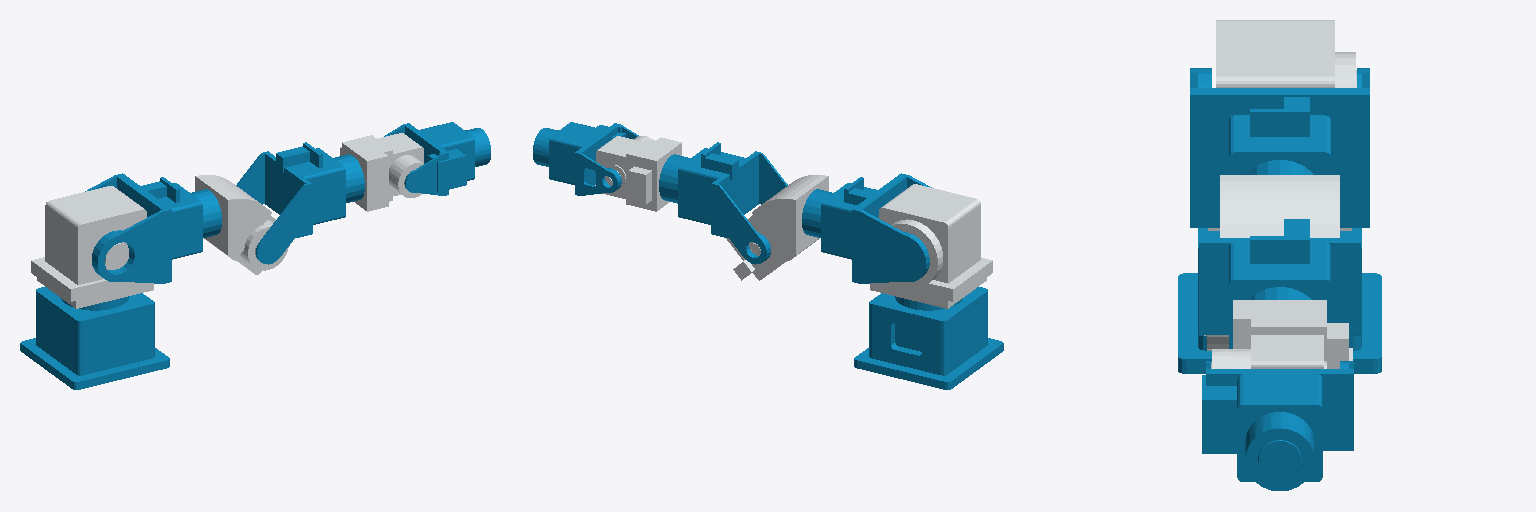
The robot description file, URDF, robot "blue_arm":
<?xml version="1.0" ?>
<!-- =================================================================================== -->
<!-- |    This document was autogenerated by xacro from [local-path]/work/src/robot_models/blue_arm_description/urdf/blue_arm_cam.xacro | -->
<!-- |    EDITING THIS FILE BY HAND IS NOT RECOMMENDED                                 | -->
<!-- =================================================================================== -->
<!-- This URDF was automatically created by SolidWorks to URDF Exporter! Originally created by [author] ([email redacted]) 
     Commit Version: 1.5.1-0-g916b5db  Build Version: 1.5.7152.31018
     For more information, please see http://wiki.ros.org/sw_urdf_exporter -->
<robot name="blue_arm">
    <material name="aluminum">
        <color rgba="0.5 0.5 0.5 1" />
    </material>
    <material name="plastic">
        <color rgba="0.1 0.1 0.1 1" />
    </material>
    <!-- camera body, with origin at bottom screw mount -->
    <joint name="camera_joint" type="fixed">
        <origin rpy="0 0 0" xyz="0 0 0" />
        <parent link="link_7" />
        <child link="camera_bottom_screw_frame" />
    </joint>
    <link name="camera_bottom_screw_frame" />
    <joint name="camera_link_joint" type="fixed">
        <origin rpy="0 0 0" xyz="0.01085 0.009 0.021" />
        <parent link="camera_bottom_screw_frame" />
        <child link="camera_link" />
    </joint>
    <link name="camera_link">
        <visual>
            <!-- the mesh origin is at front plate in between the two infrared camera axes -->
            <origin rpy="1.5707963267948966 0 1.5707963267948966" xyz="0.0038 -0.009 0" />
            <geometry>
                <mesh filename="file://[local-path]/work/src/camera_models/realsense2_description/meshes/d405.stl" scale="0.001 0.001 0.001" />
            </geometry>
            <material name="aluminum" />
        </visual>
        <collision>
            <origin rpy="0 0 0" xyz="-0.0078 -0.009 0" />
            <geometry>
                <box size="0.023 0.042 0.042" />
            </geometry>
        </collision>
        <inertial>
            <!-- The following are not reliable values, and should not be used for modeling -->
            <mass value="0.072" />
            <origin xyz="0 0 0" rpy="0 0 0" />
            <inertia ixx="0.003881243" ixy="0.0" ixz="0.0" iyy="0.000498940" iyz="0.0" izz="0.003879257" />
        </inertial>
    </link>
    <!-- camera depth joints and links -->
    <joint name="camera_depth_joint" type="fixed">
        <origin rpy="0 0 0" xyz="0 0 0" />
        <parent link="camera_link" />
        <child link="camera_depth_frame" />
    </joint>
    <link name="camera_depth_frame" />
    <joint name="camera_depth_optical_joint" type="fixed">
        <origin rpy="-1.5707963267948966 0 -1.5707963267948966" xyz="0 0 0" />
        <parent link="camera_depth_frame" />
        <child link="camera_depth_optical_frame" />
    </joint>
    <link name="camera_depth_optical_frame" />
    <!-- camera left IR joints and links -->
    <joint name="camera_infra1_joint" type="fixed">
        <origin rpy="0 0 0" xyz="0 0.0 0" />
        <parent link="camera_link" />
        <child link="camera_infra1_frame" />
    </joint>
    <link name="camera_infra1_frame" />
    <joint name="camera_infra1_optical_joint" type="fixed">
        <origin rpy="-1.5707963267948966 0 -1.5707963267948966" xyz="0 0 0" />
        <parent link="camera_infra1_frame" />
        <child link="camera_infra1_optical_frame" />
    </joint>
    <link name="camera_infra1_optical_frame" />
    <!-- camera right IR joints and links -->
    <joint name="camera_infra2_joint" type="fixed">
        <origin rpy="0 0 0" xyz="0 -0.018 0" />
        <parent link="camera_link" />
        <child link="camera_infra2_frame" />
    </joint>
    <link name="camera_infra2_frame" />
    <joint name="camera_infra2_optical_joint" type="fixed">
        <origin rpy="-1.5707963267948966 0 -1.5707963267948966" xyz="0 0 0" />
        <parent link="camera_infra2_frame" />
        <child link="camera_infra2_optical_frame" />
    </joint>
    <link name="camera_infra2_optical_frame" />
    <!-- camera color joints and links -->
    <joint name="camera_color_joint" type="fixed">
        <origin rpy="0 0 0" xyz="0 0.0 0" />
        <parent link="camera_link" />
        <child link="camera_color_frame" />
    </joint>
    <link name="camera_color_frame" />
    <joint name="camera_color_optical_joint" type="fixed">
        <origin rpy="-1.5707963267948966 0 -1.5707963267948966" xyz="0 0 0" />
        <parent link="camera_color_frame" />
        <child link="camera_color_optical_frame" />
    </joint>
    <link name="camera_color_optical_frame" />
    <physics type="ode">
        <max_step_size>0.001</max_step_size>
        <real_time_factor>0.1</real_time_factor>
        <real_time_update_rate>1000</real_time_update_rate>
        <gravity>0 0 -9.8</gravity>
    </physics>
    <gazebo>
        <plugin filename="libgazebo_ros_control.so" name="gazebo_ros_control">
            <robotNamespace>/</robotNamespace>
            <robotSimType>gazebo_ros_control/DefaultRobotHWSim</robotSimType>
            <legacyModeNS>true</legacyModeNS>
        </plugin>
    </gazebo>
    <gazebo reference="base_link">
        <mu1>0.2</mu1>
        <mu2>0.2</mu2>
        <material>Gazebo/Blue</material>
        <selfCollide>false</selfCollide>
    </gazebo>
    <gazebo reference="link_1">
        <mu1>0.2</mu1>
        <mu2>0.2</mu2>
        <material>Gazebo/Gray</material>
        <selfCollide>false</selfCollide>
    </gazebo>
    <gazebo reference="link_2">
        <mu1>0.2</mu1>
        <mu2>0.2</mu2>
        <material>Gazebo/Blue</material>
        <selfCollide>false</selfCollide>
    </gazebo>
    <gazebo reference="link_3">
        <mu1>0.2</mu1>
        <mu2>0.2</mu2>
        <material>Gazebo/Gray</material>
        <selfCollide>false</selfCollide>
    </gazebo>
    <gazebo reference="link_4">
        <mu1>0.2</mu1>
        <mu2>0.2</mu2>
        <material>Gazebo/Blue</material>
        <selfCollide>false</selfCollide>
    </gazebo>
    <gazebo reference="link_5">
        <mu1>0.2</mu1>
        <mu2>0.2</mu2>
        <material>Gazebo/Gray</material>
        <selfCollide>false</selfCollide>
    </gazebo>
    <gazebo reference="link_6">
        <mu1>0.2</mu1>
        <mu2>0.2</mu2>
        <material>Gazebo/Blue</material>
        <selfCollide>false</selfCollide>
    </gazebo>
    <gazebo reference="joint_1">
        <implicitSpringDamper>True</implicitSpringDamper>
    </gazebo>
    <gazebo reference="joint_2">
        <implicitSpringDamper>True</implicitSpringDamper>
    </gazebo>
    <gazebo reference="joint_3">
        <implicitSpringDamper>True</implicitSpringDamper>
    </gazebo>
    <gazebo reference="joint_4">
        <implicitSpringDamper>True</implicitSpringDamper>
    </gazebo>
    <gazebo reference="joint_5">
        <implicitSpringDamper>True</implicitSpringDamper>
    </gazebo>
    <gazebo reference="joint_6">
        <implicitSpringDamper>True</implicitSpringDamper>
    </gazebo>
    <gazebo reference="joint_7">
        <implicitSpringDamper>True</implicitSpringDamper>
    </gazebo>
    <!-- parses the transmission tags and loads the appropriate hardware interfaces and controller manager -->
    <!-- <robot xmlns:xacro="http://www.ros.org/wiki/xacro">

  <xacro:macro name="table_arm_transmission" params="side"> -->
    <!-- all joint transmission -->
    <transmission name="trans_joint_1">
        <type>transmission_interface/SimpleTransmission</type>
        <joint name="joint_1">
            <hardwareInterface>hardware_interface/VelocityJointInterface</hardwareInterface>
        </joint>
        <actuator name="joint_1_motor">
            <hardwareInterface>hardware_interface/VelocityJointInterface</hardwareInterface>
            <mechanicalReduction>1</mechanicalReduction>
        </actuator>
    </transmission>
    <transmission name="trans_joint_2">
        <type>transmission_interface/SimpleTransmission</type>
        <joint name="joint_2">
            <hardwareInterface>hardware_interface/VelocityJointInterface</hardwareInterface>
        </joint>
        <actuator name="joint_2_motor">
            <hardwareInterface>hardware_interface/VelocityJointInterface</hardwareInterface>
            <mechanicalReduction>1</mechanicalReduction>
        </actuator>
    </transmission>
    <transmission name="trans_joint_3">
        <type>transmission_interface/SimpleTransmission</type>
        <joint name="joint_3">
            <hardwareInterface>hardware_interface/VelocityJointInterface</hardwareInterface>
        </joint>
        <actuator name="joint_3_motor">
            <hardwareInterface>hardware_interface/VelocityJointInterface</hardwareInterface>
            <mechanicalReduction>1</mechanicalReduction>
        </actuator>
    </transmission>
    <transmission name="trans_joint_4">
        <type>transmission_interface/SimpleTransmission</type>
        <joint name="joint_4">
            <hardwareInterface>hardware_interface/VelocityJointInterface</hardwareInterface>
        </joint>
        <actuator name="joint_4_motor">
            <hardwareInterface>hardware_interface/VelocityJointInterface</hardwareInterface>
            <mechanicalReduction>1</mechanicalReduction>
        </actuator>
    </transmission>
    <transmission name="trans_joint_5">
        <type>transmission_interface/SimpleTransmission</type>
        <joint name="joint_5">
            <hardwareInterface>hardware_interface/VelocityJointInterface</hardwareInterface>
        </joint>
        <actuator name="joint_5_motor">
            <hardwareInterface>hardware_interface/VelocityJointInterface</hardwareInterface>
            <mechanicalReduction>1</mechanicalReduction>
        </actuator>
    </transmission>
    <transmission name="trans_joint_6">
        <type>transmission_interface/SimpleTransmission</type>
        <joint name="joint_6">
            <hardwareInterface>hardware_interface/VelocityJointInterface</hardwareInterface>
        </joint>
        <actuator name="joint_6_motor">
            <hardwareInterface>hardware_interface/VelocityJointInterface</hardwareInterface>
            <mechanicalReduction>1</mechanicalReduction>
        </actuator>
    </transmission>
    <transmission name="trans_joint_7">
        <type>transmission_interface/SimpleTransmission</type>
        <joint name="joint_7">
            <hardwareInterface>hardware_interface/VelocityJointInterface</hardwareInterface>
        </joint>
        <actuator name="joint_7_motor">
            <hardwareInterface>hardware_interface/VelocityJointInterface</hardwareInterface>
            <mechanicalReduction>1</mechanicalReduction>
        </actuator>
    </transmission>
    <link name="world" />
    <joint name="joint_0 " type="fixed">
        <origin rpy="0 0 0" xyz="0 0 0" />
        <parent link="world" />
        <child link="base_link" />
    </joint>
    <link name="base_link">
        <inertial>
            <origin rpy="0 0 0" xyz="-1.2721E-09 -2.221E-09 0.029334" />
            <mass value="0.80823" />
            <inertia ixx="0.1" ixy="0" ixz="0" iyy="0.1" iyz="0" izz="0.1" />
        </inertial>
        <visual>
            <origin rpy="0 0 0" xyz="0 0 0" />
            <geometry>
                <mesh filename="package://blue_arm_description/meshes/visual/base_link.STL" />
            </geometry>
            <material name="">
                <color rgba="0.1 0.6 0.8 1" />
            </material>
        </visual>
        <collision>
            <origin rpy="0 0 0" xyz="0 0 0" />
            <geometry>
                <mesh filename="package://blue_arm_description/meshes/collision/base_link.STL" />
            </geometry>
        </collision>
    </link>
    <link name="link_1">
        <inertial>
            <origin rpy="0 0 0" xyz="0.0013724819847024 0.00105856120896306 -0.0137822751691176" />
            <mass value="0.842297822851205" />
            <inertia ixx="0.1" ixy="0" ixz="0" iyy="0.1" iyz="0" izz="0.1" />
        </inertial>
        <visual>
            <origin rpy="0 0 0" xyz="0 0 0" />
            <geometry>
                <mesh filename="package://blue_arm_description/meshes/visual/link_1.STL" />
            </geometry>
            <material name="">
                <color rgba="0.898039215686275 0.917647058823529 0.929411764705882 1" />
            </material>
        </visual>
        <collision>
            <origin rpy="0 0 0" xyz="0 0 0" />
            <geometry>
                <mesh filename="package://blue_arm_description/meshes/collision/link_1.STL" />
            </geometry>
        </collision>
    </link>
    <joint name="joint_1" type="revolute">
        <origin rpy="0 0 0" xyz="0 0 0.14" />
        <parent link="base_link" />
        <child link="link_1" />
        <axis xyz="0 0 1" />
        <limit effort="1200" lower="-3.1415926" upper="3.1415926" velocity="3.29" />
    </joint>
    <link name="link_2">
        <inertial>
            <origin rpy="0 0 0" xyz="0.0769223200130146 8.08732473817575E-05 -0.00042635625580266" />
            <mass value="0.745981126447571" />
            <inertia ixx="0.1" ixy="0" ixz="0" iyy="0.1" iyz="0" izz="0.1" />
        </inertial>
        <visual>
            <origin rpy="0 0 0" xyz="0 0 0" />
            <geometry>
                <mesh filename="package://blue_arm_description/meshes/visual/link_2.STL" />
            </geometry>
            <material name="">
                <color rgba="0.1 0.6 0.8 1" />
            </material>
        </visual>
        <collision>
            <origin rpy="0 0 0" xyz="0 0 0" />
            <geometry>
                <mesh filename="package://blue_arm_description/meshes/collision/link_2.STL" />
            </geometry>
        </collision>
    </link>
    <joint name="joint_2" type="revolute">
        <origin rpy="0 0 0" xyz="0 0 0" />
        <parent link="link_1" />
        <child link="link_2" />
        <axis xyz="0 1 0" />
        <limit effort="1200" lower="-3.1415926" upper="0" velocity="3.29" />
    </joint>
    <link name="link_3">
        <inertial>
            <origin rpy="0 0 0" xyz="-0.0114331813251084 -0.000457582008541844 -0.0216566472730735" />
            <mass value="0.804459827803754" />
            <inertia ixx="0.1" ixy="0" ixz="0" iyy="0.1" iyz="0" izz="0.1" />
        </inertial>
        <visual>
            <origin rpy="0 0 0" xyz="0 0 0" />
            <geometry>
                <mesh filename="package://blue_arm_description/meshes/visual/link_3.STL" />
            </geometry>
            <material name="">
                <color rgba="0.898039215686275 0.917647058823529 0.929411764705882 1" />
            </material>
        </visual>
        <collision>
            <origin rpy="0 0 0" xyz="0 0 0" />
            <geometry>
                <mesh filename="package://blue_arm_description/meshes/collision/link_3.STL" />
            </geometry>
        </collision>
    </link>
    <joint name="joint_3" type="revolute">
        <origin rpy="0 0 0" xyz="0.1415 0 0" />
        <parent link="link_2" />
        <child link="link_3" />
        <axis xyz="1 0 0" />
        <limit effort="1000" lower="-3.1415926" upper="3.1415926" velocity="2.39" />
    </joint>
    <link name="link_4">
        <inertial>
            <origin rpy="0 0 0" xyz="0.0769734778463645 0.000934629244450365 0.0356212264841299" />
            <mass value="0.566230423072006" />
            <inertia ixx="0.1" ixy="0" ixz="0" iyy="0.1" iyz="0" izz="0.1" />
        </inertial>
        <visual>
            <origin rpy="0 0 0" xyz="0 0 0" />
            <geometry>
                <mesh filename="package://blue_arm_description/meshes/visual/link_4.STL" />
            </geometry>
            <material name="">
                <color rgba="0.1 0.6 0.8 1" />
            </material>
        </visual>
        <collision>
            <origin rpy="0 0 0" xyz="0 0 0" />
            <geometry>
                <mesh filename="package://blue_arm_description/meshes/collision/link_4.STL" />
            </geometry>
        </collision>
    </link>
    <joint name="joint_4" type="revolute">
        <origin rpy="0 0 0" xyz="0.0485 0 -0.0365" />
        <parent link="link_3" />
        <child link="link_4" />
        <axis xyz="0 -1 0" />
        <limit effort="1000" lower="-3.1415926" upper="0" velocity="2.39" />
    </joint>
    <link name="link_5">
        <inertial>
            <origin rpy="0 0 0" xyz="-0.0148074583751761 0.00213542128687548 2.18169794868883E-07" />
            <mass value="0.462017126683371" />
            <inertia ixx="0.1" ixy="0" ixz="0" iyy="0.1" iyz="0" izz="0.1" />
        </inertial>
        <visual>
            <origin rpy="0 0 0" xyz="0 0 0" />
            <geometry>
                <mesh filename="package://blue_arm_description/meshes/visual/link_5.STL" />
            </geometry>
            <material name="">
                <color rgba="0.898039215686275 0.917647058823529 0.929411764705882 1" />
            </material>
        </visual>
        <collision>
            <origin rpy="0 0 0" xyz="0 0 0" />
            <geometry>
                <mesh filename="package://blue_arm_description/meshes/collision/link_5.STL" />
            </geometry>
        </collision>
    </link>
    <joint name="joint_5" type="revolute">
        <origin rpy="0 0 0" xyz="0.183 0 0.0365" />
        <parent link="link_4" />
        <child link="link_5" />
        <axis xyz="1 0 0" />
        <limit effort="1000" lower="-3.1415926" upper="3.1415926" velocity="2.39" />
    </joint>
    <link name="link_6">
        <inertial>
            <origin rpy="0 0 0" xyz="0.057311 -0.0040732 2.7725E-07" />
            <mass value="0.41677" />
            <inertia ixx="0.1" ixy="0" ixz="0" iyy="0.1" iyz="0" izz="0.1" />
        </inertial>
        <visual>
            <origin rpy="0 0 0" xyz="0 0 0" />
            <geometry>
                <mesh filename="package://blue_arm_description/meshes/visual/link_6.STL" />
            </geometry>
            <material name="">
                <color rgba="0.1 0.6 0.8 1" />
            </material>
        </visual>
        <collision>
            <origin rpy="0 0 0" xyz="0 0 0" />
            <geometry>
                <mesh filename="package://blue_arm_description/meshes/collision/link_6.STL" />
            </geometry>
        </collision>
    </link>
    <joint name="joint_6" type="revolute">
        <origin rpy="0 0 0" xyz="0 0 0" />
        <parent link="link_5" />
        <child link="link_6" />
        <axis xyz="0 -1 0" />
        <limit effort="1000" lower="-1.7" upper="1.7" velocity="2.77" />
    </joint>
    <link name="link_7">
        <inertial>
            <origin rpy="0 0 0" xyz="0 0 0" />
            <mass value="0.1" />
            <inertia ixx="0.1" ixy="0" ixz="0" iyy="0.1" iyz="0" izz="0.1" />
        </inertial>
        <collision>
            <geometry>
                <box size="0.01 0.01 0.01" />
            </geometry>
            <origin rpy="0 0 0" xyz="0 0 0" />
        </collision>
    </link>
    <joint name="joint_7" type="revolute">
        <origin rpy="0 0 0" xyz="0.107 0 0" />
        <parent link="link_6" />
        <child link="link_7" />
        <axis xyz="1 0 0" />
        <limit effort="1000" lower="-3.1415926" upper="3.1415926" velocity="2.77" />
    </joint>
</robot>

--- Facts derived from the render (not from the file) ---
3 views of the same robot in one strip: view 1: azimuth 30°, elevation 25°; view 2: azimuth 150°, elevation 25°; view 3: azimuth 270°, elevation 25° (orthographic).
Model blue_arm with 19 links and 18 joints (7 revolute, 11 fixed), rooted at world, posed every joint at zero.
Visible links, largest first — view 1: base_link, link_1, link_4, link_2, link_6, link_3, link_5; view 2: base_link, link_1, link_2, link_4, link_6, link_3, link_5; view 3: link_2, link_6, link_4, link_1, link_5, link_3, base_link.
Link boxes in pixels (x1,y1,x2,y2): base_link: (20, 287, 169, 389); link_1: (31, 186, 153, 308); link_4: (236, 142, 364, 264); link_2: (85, 173, 221, 283); link_6: (384, 122, 490, 195); link_3: (195, 175, 288, 274); link_5: (340, 133, 423, 211); base_link: (854, 287, 1003, 389); link_1: (870, 184, 992, 308); link_2: (802, 173, 931, 283); link_4: (659, 142, 787, 264); link_6: (533, 122, 638, 195); link_3: (726, 175, 828, 280); link_5: (596, 136, 681, 211); link_2: (1190, 68, 1369, 227); link_6: (1202, 361, 1353, 490); link_4: (1199, 219, 1360, 348); link_1: (1208, 20, 1356, 230); link_5: (1211, 300, 1348, 368); link_3: (1204, 175, 1352, 360); base_link: (1178, 228, 1381, 373).
Bounding box of the posed robot: 0.54 × 0.12 × 0.186 m (x, y, z).
7 mesh visuals loaded from 7 distinct referenced files (7 binary STL); not drawn: 1 (reference in a form the renderer does not follow; not among the files counted above).